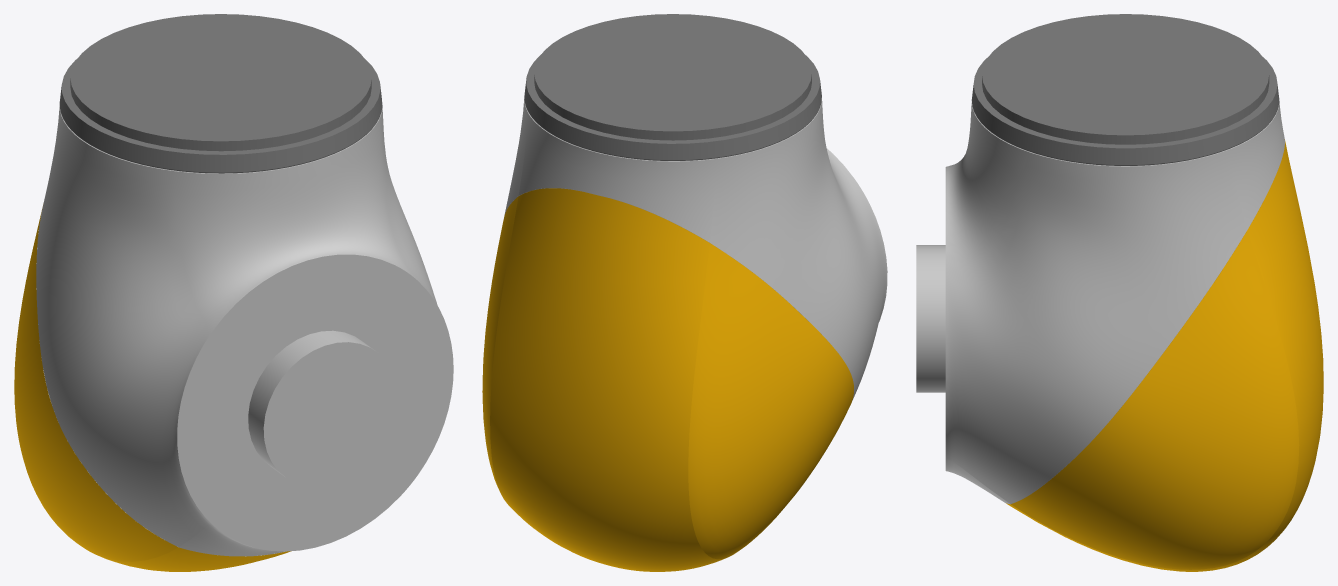
3 renders of one model, left to right at view 1: azimuth 30°, elevation 25°; view 2: azimuth 150°, elevation 25°; view 3: azimuth 270°, elevation 25°, orthographic. The views are drawn at different scales.
Parts seen in each view (by area): view 1: link_6; view 2: link_6; view 3: link_6.
Part boxes in pixels (box(x1,y1,x2,y2)): link_6: box(14, 14, 453, 571); link_6: box(482, 14, 887, 571); link_6: box(916, 14, 1323, 571).
Size of the model in its own units: 0.1323 by 0.1376 by 0.1775.
